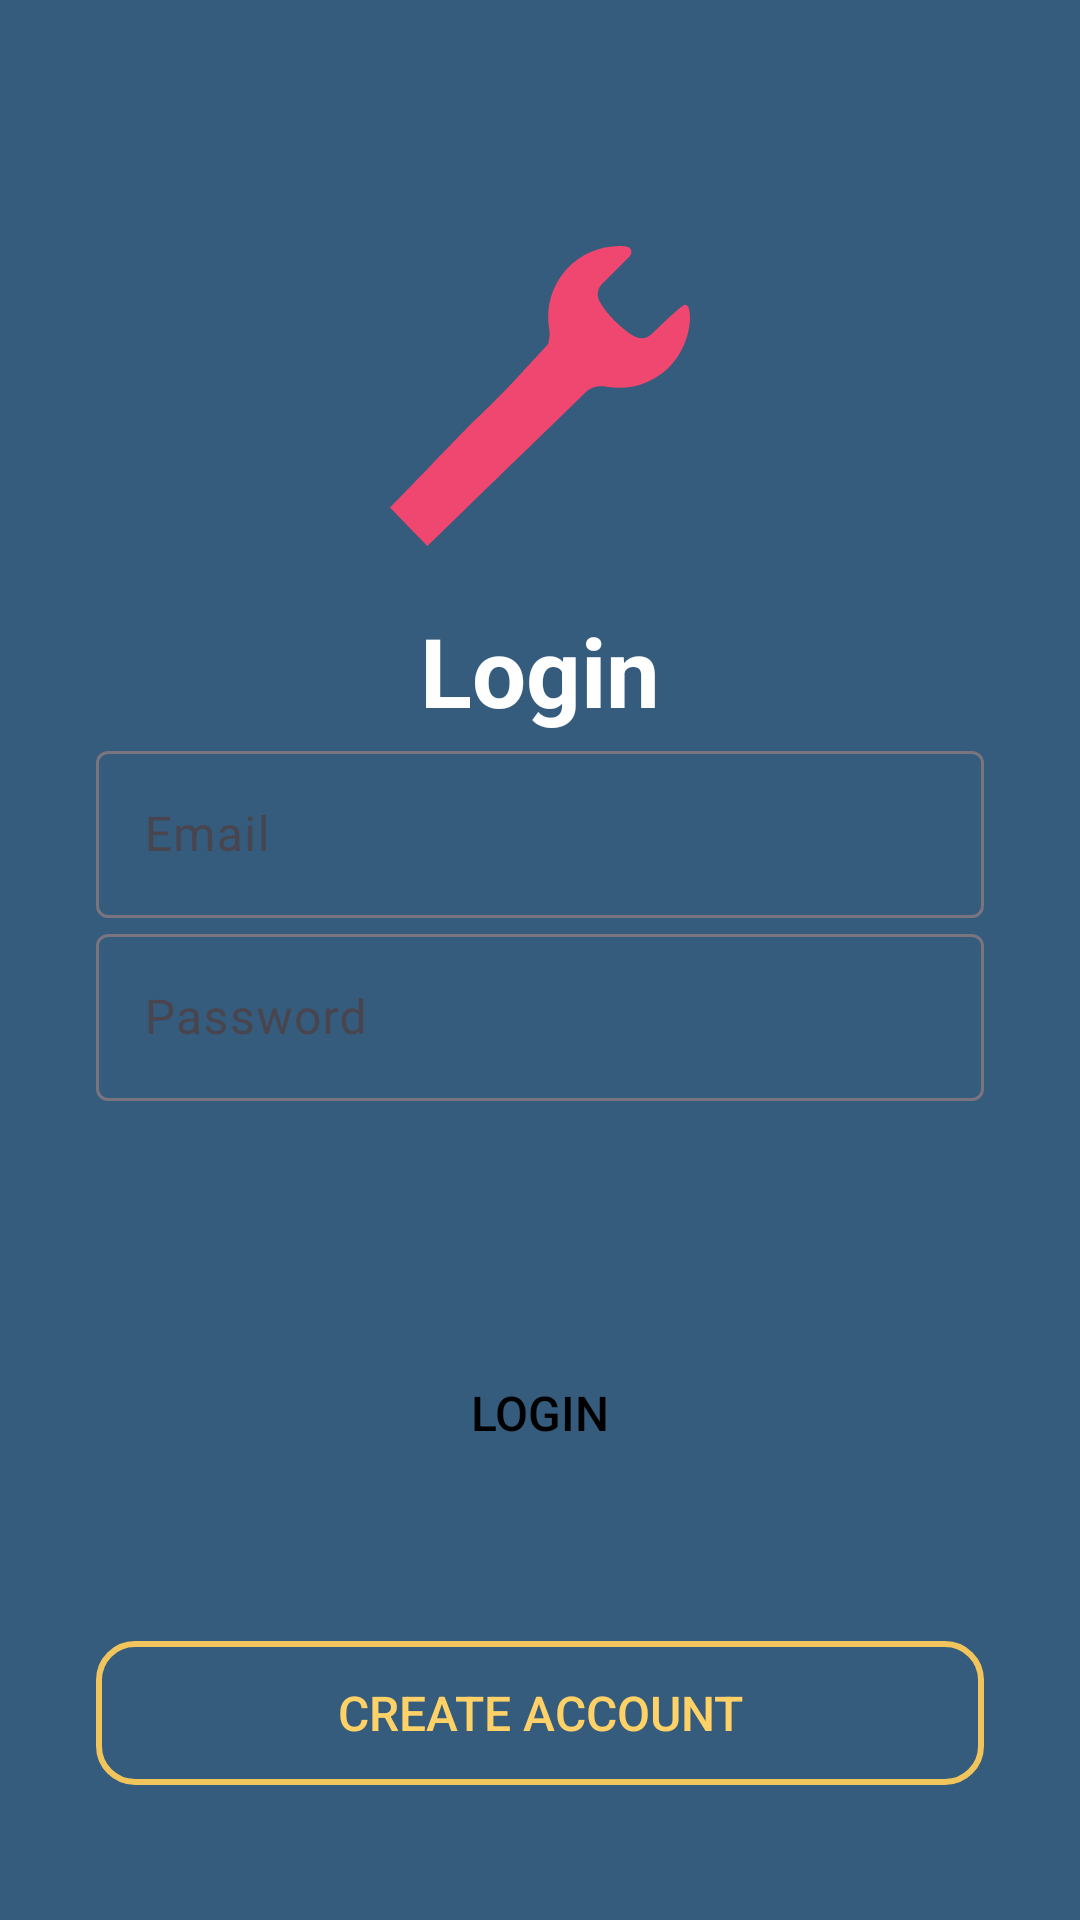

Where icons sit on this 1080 × 1920 app screen, as {"left": x1, "top": y1, "right": x2, "bottom": y2}:
wrench: {"left": 390, "top": 246, "right": 690, "bottom": 546}
